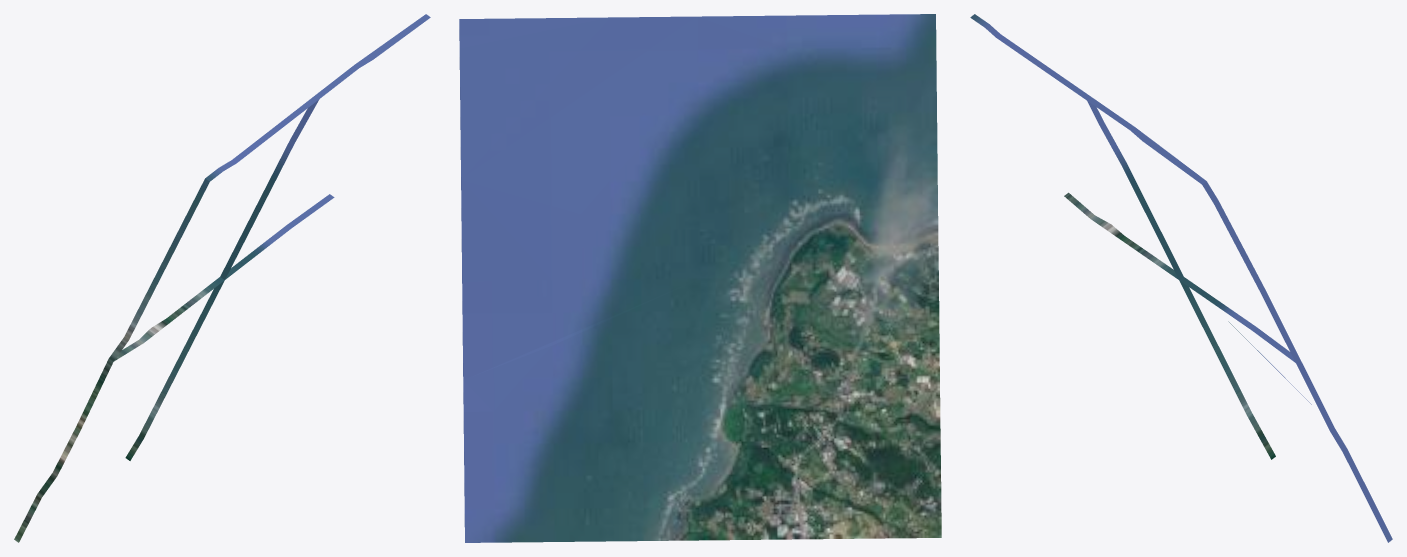
The picture shows the model from 3 angles, left to right: view 1: azimuth 30°, elevation 25°; view 2: azimuth 150°, elevation 25°; view 3: azimuth 270°, elevation 25°; orthographic projection. The views are drawn at different scales.
Bounding box in the file's own units: 4954 × 4436 × 4134.
1 material, 1 textured.
